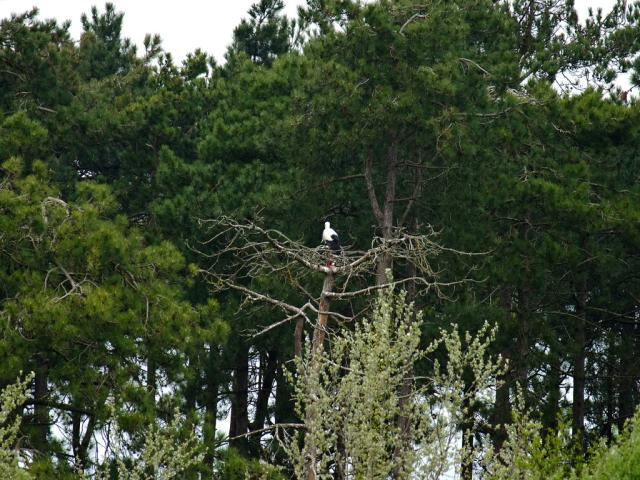Bird: (321, 221, 339, 251)
